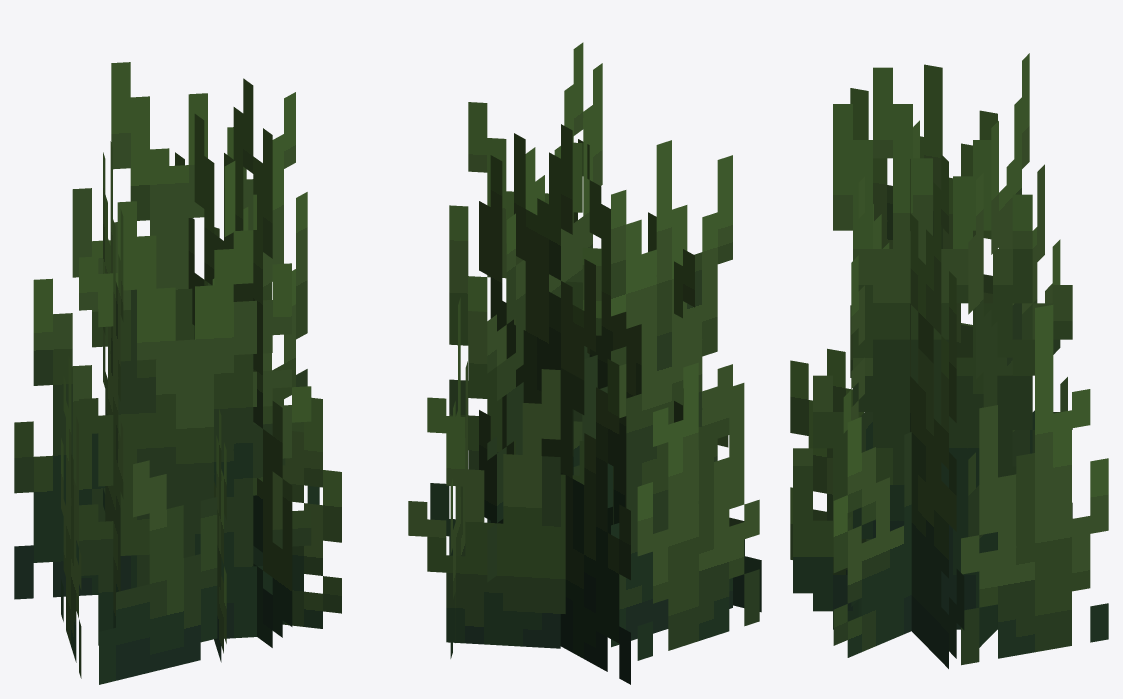
File: tall_grass1.glb
3 views of the same model, side by side, from view 1: azimuth 30°, elevation 25°; view 2: azimuth 150°, elevation 25°; view 3: azimuth 270°, elevation 25° (orthographic). The views are drawn at different scales.
Parts seen in each view (by area): view 1: cube (×14); view 2: cube (×15); view 3: cube (×14).
Part boxes in pixels (<box>): cube (×14): <box>14,62,341,684</box>; cube (×15): <box>408,42,761,684</box>; cube (×14): <box>790,53,1108,668</box>.
Size of the model in its own units: 1.06 by 1.94 by 0.9958.
1 material, 1 textured.
